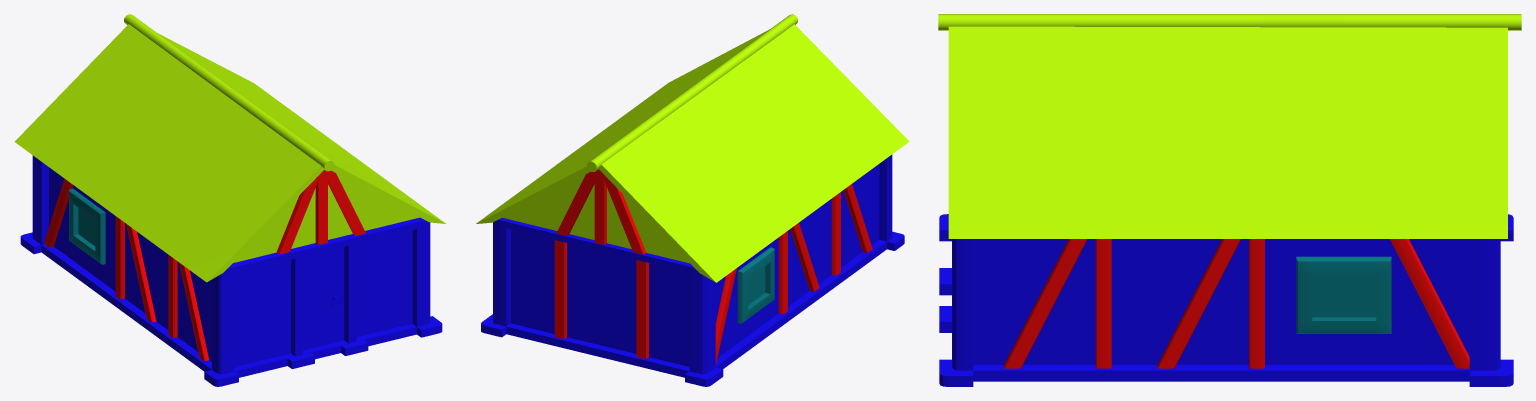
File: House 1.FBX
3 views of the same model, side by side, from view 1: azimuth 30°, elevation 25°; view 2: azimuth 150°, elevation 25°; view 3: azimuth 270°, elevation 25° (orthographic). The views are drawn at different scales.
Parts seen in each view (by area): view 1: Top, Base, WoodSupports, Window; view 2: Top, Base, WoodSupports, Window; view 3: Top, Base, WoodSupports, Window.
Boxes of the visible parts, left/top/right/bottom form: Top: left=14, top=14, right=445, bottom=282; Base: left=20, top=155, right=442, bottom=386; WoodSupports: left=44, top=170, right=365, bottom=360; Window: left=69, top=188, right=105, bottom=264; Top: left=476, top=14, right=909, bottom=282; Base: left=481, top=154, right=904, bottom=386; WoodSupports: left=554, top=169, right=872, bottom=363; Window: left=737, top=247, right=774, bottom=323; Top: left=938, top=14, right=1521, bottom=238; Base: left=939, top=214, right=1513, bottom=386; WoodSupports: left=1004, top=239, right=1469, bottom=368; Window: left=1296, top=256, right=1391, bottom=333.
Bounding box in the file's own units: 483 × 384 × 699.
